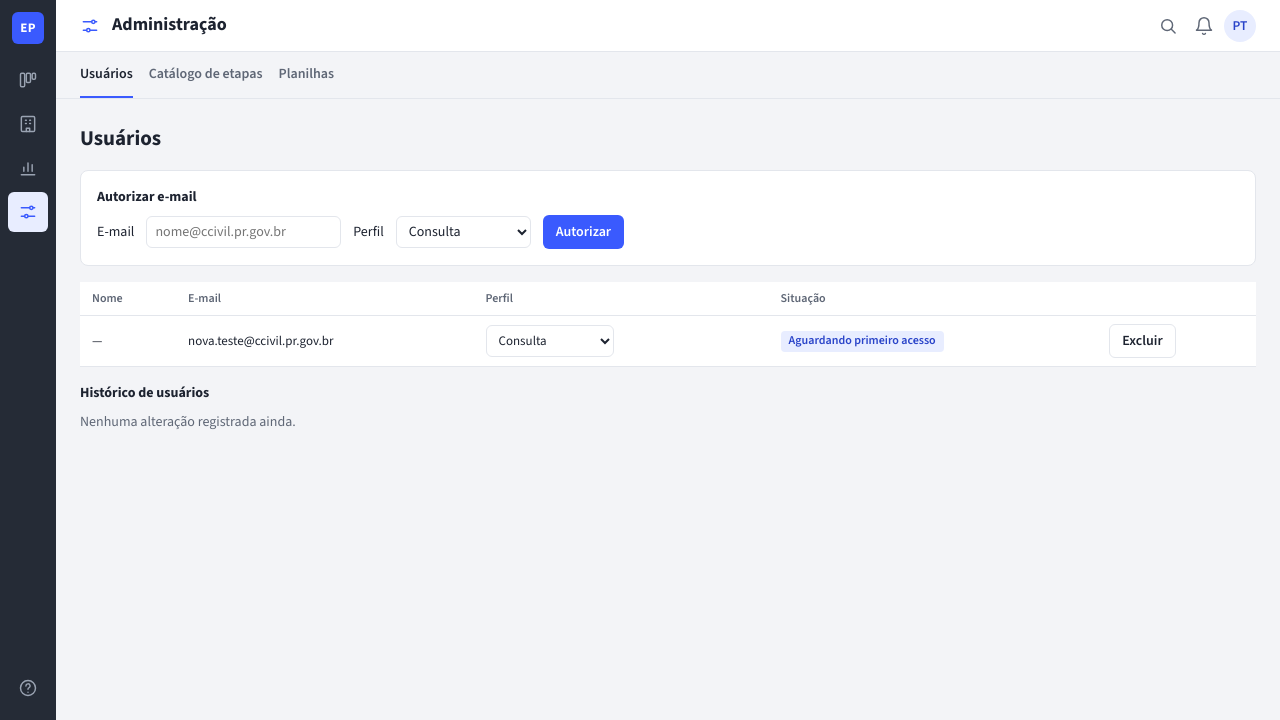
Test: autorizar um e-mail o põe na lista como aguardando e limpa o formulário
Expected: the table is shown, [80,282,1256,367]
Expected: the dropdown labelled "Perfil" shows "Consulta", [396,216,531,248]
Type " Pessoa.Teste@CCivil.pr.gov.br " into the field labelled "E-mail" at x=244, y=232, box [146,216,341,248]
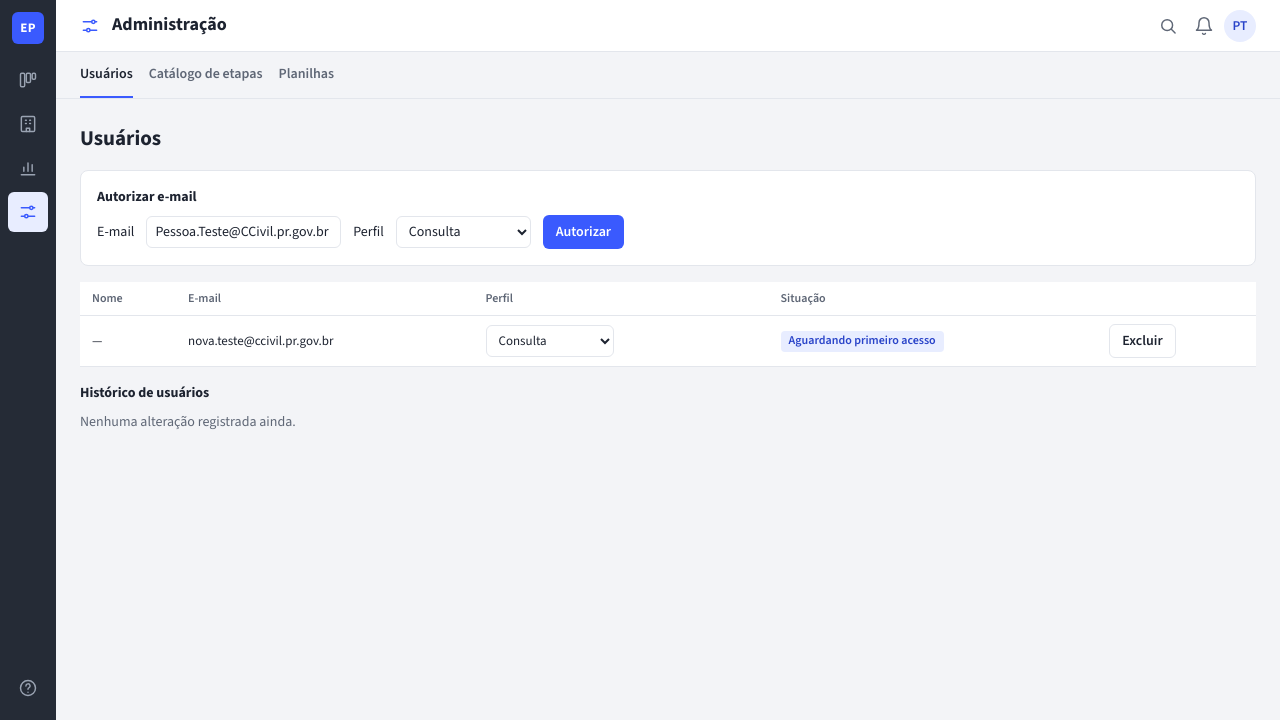
Select "Integrante do EP" in the dropdown labelled "Perfil" at x=463, y=232, box [396,216,531,248]
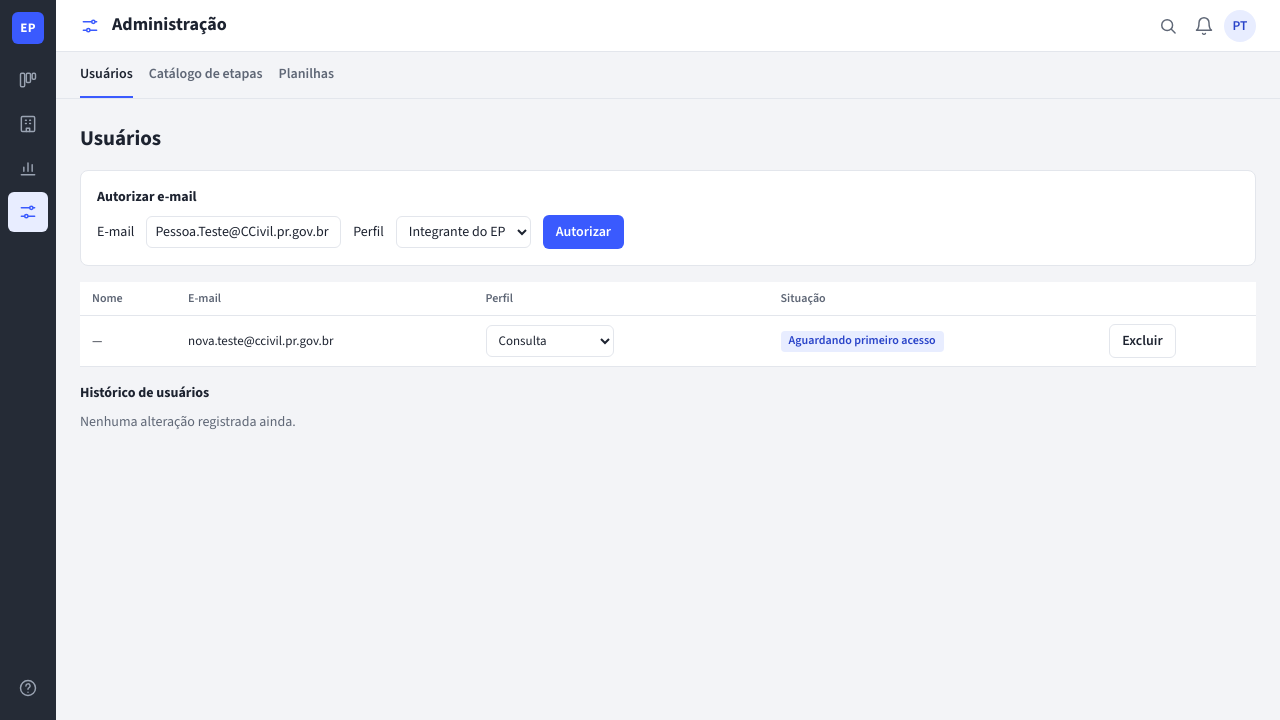
Click the button "Autorizar" at x=583, y=232, box [543,215,624,249]
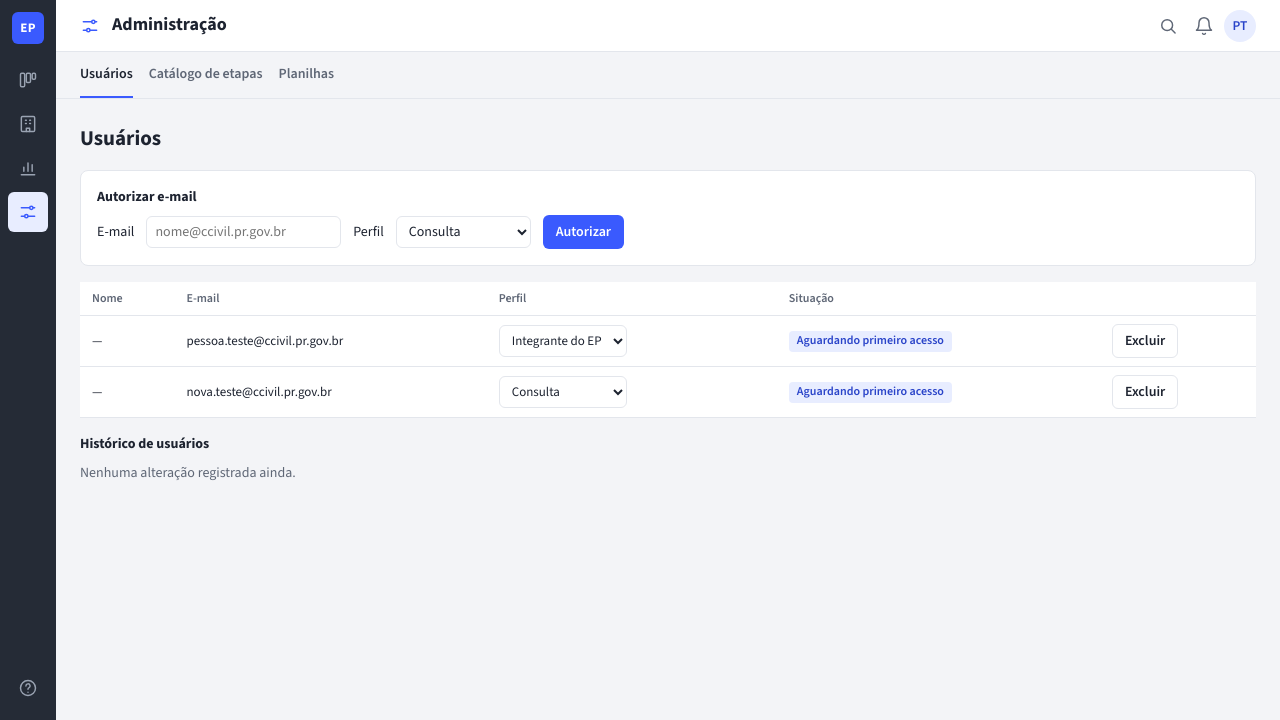
Expected: the text "pessoa.teste@ccivil.pr.gov.br" is shown, [174,316,487,367]
Expected: the field labelled "E-mail" is empty, [146,216,341,248]
